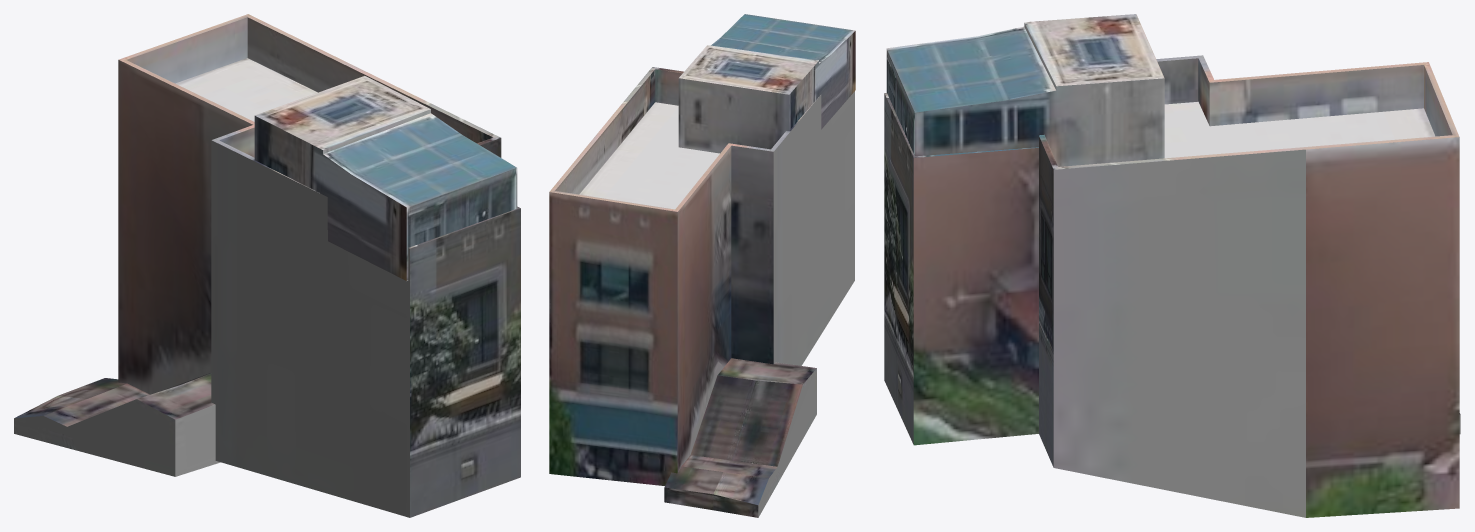
3 renders of one model, left to right at view 1: azimuth 30°, elevation 25°; view 2: azimuth 150°, elevation 25°; view 3: azimuth 270°, elevation 25°, orthographic. The views are drawn at different scales.
Visible parts, largest first — view 1: B280884033201063A0; view 2: B280884033201063A0; view 3: B280884033201063A0.
Part boxes in pixels (left/top/right/bottom): B280884033201063A0: left=14, top=14, right=520, bottom=517; B280884033201063A0: left=549, top=14, right=855, bottom=517; B280884033201063A0: left=884, top=14, right=1460, bottom=517.
Bounding box in the file's own units: 9.58 × 11.73 × 14.5.
1 material, 1 textured.
